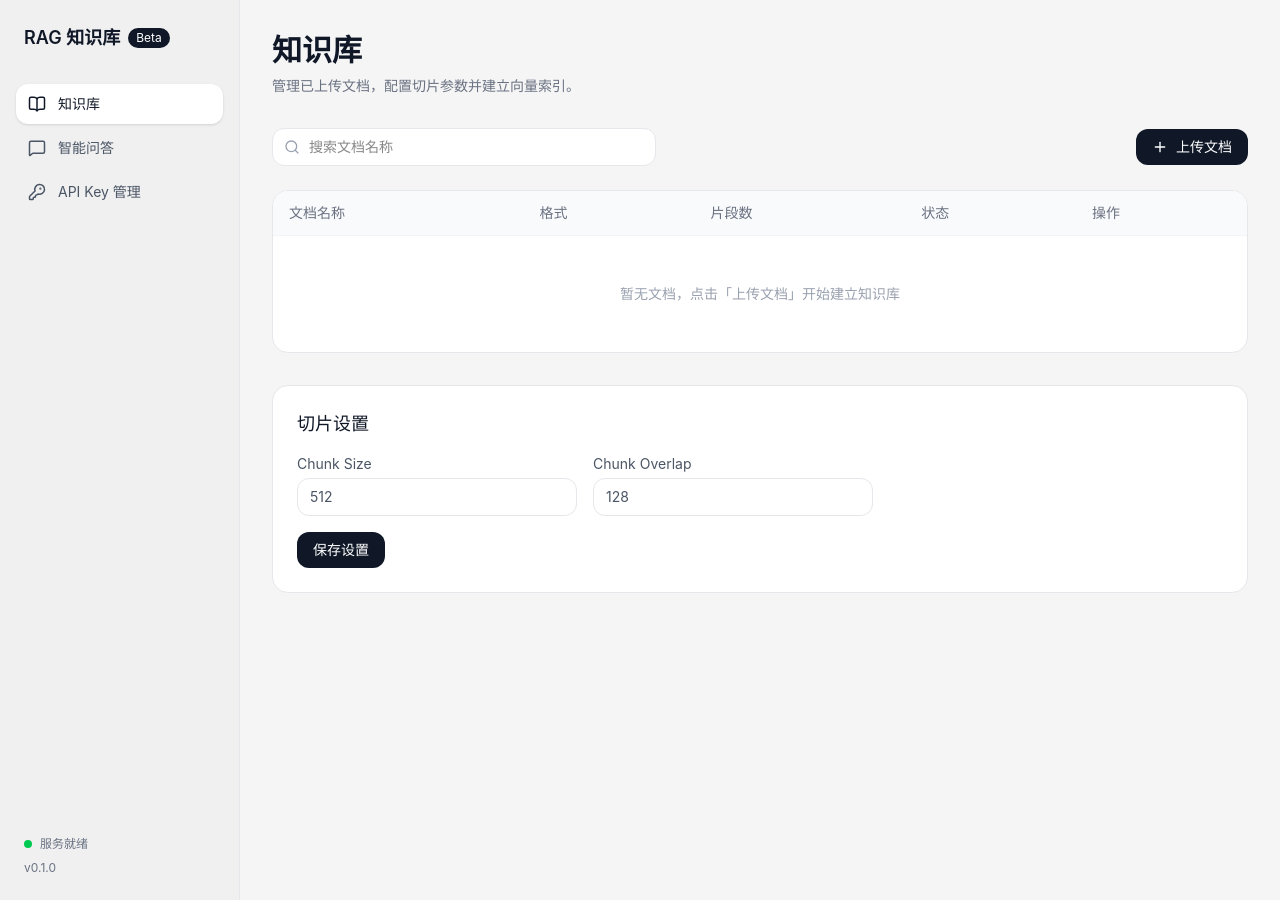
Test: App › 可导航到智能问答页
Expected: the heading "知识库" is shown, [272, 32, 362, 68]
What coordinates should you click on to do the following:
click the link "智能问答"
I would click on:
 (71, 148)
Its box is [28, 139, 114, 157].
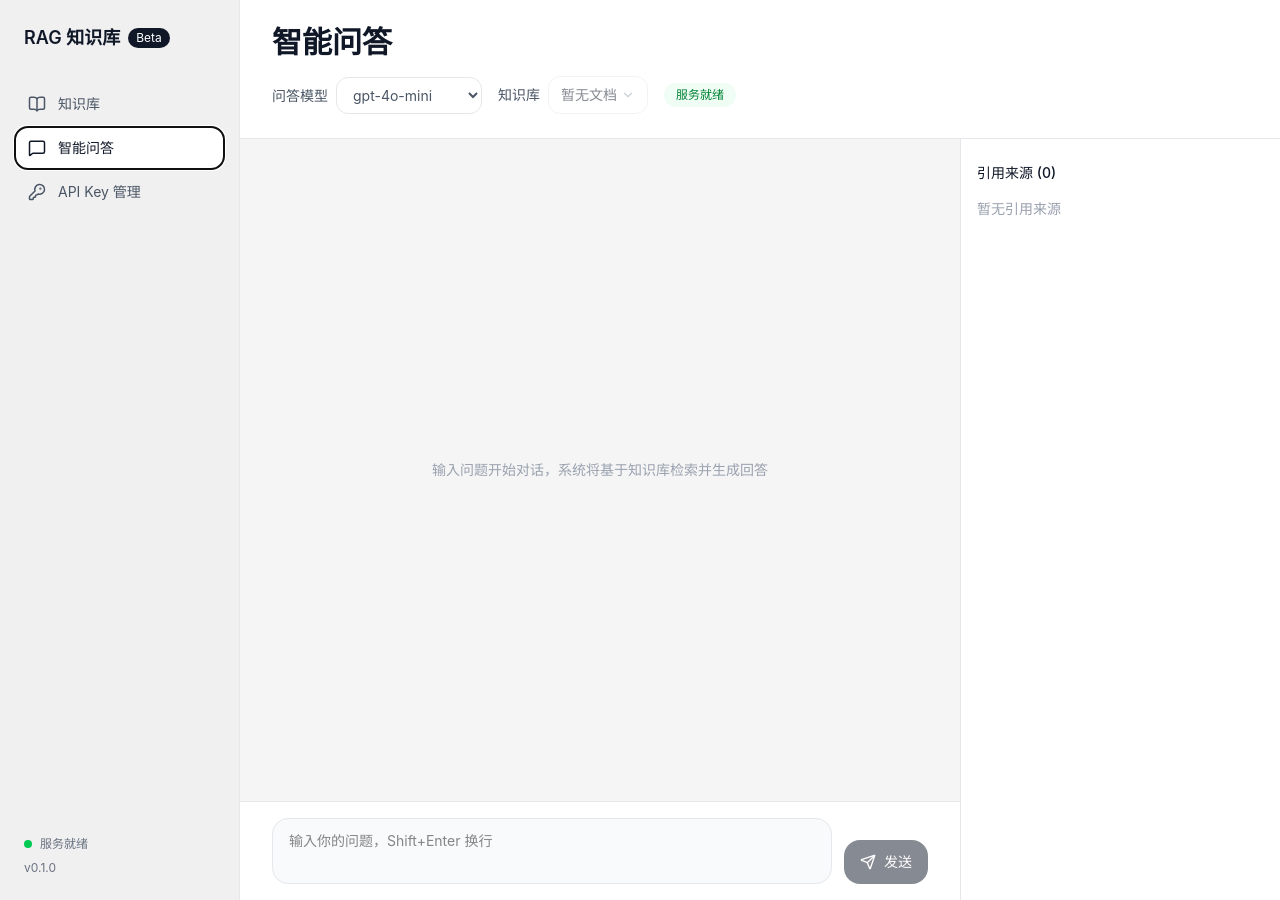
Result: the heading "智能问答" is shown at [272, 24, 392, 60]
